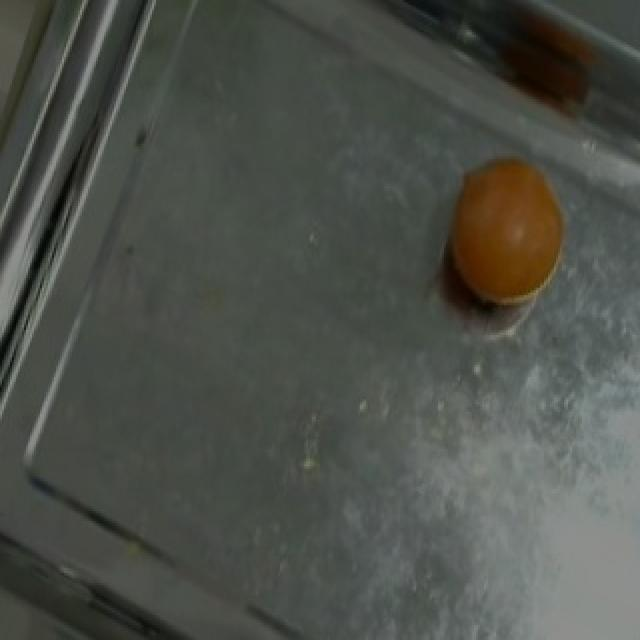Fruit: (426, 139, 588, 330)
